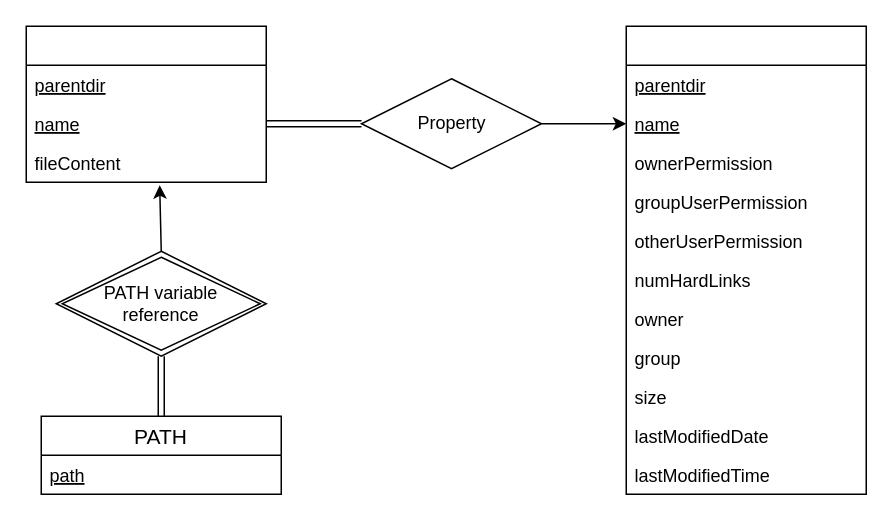
The diagram is 893 pixels wide and 525 high, and some of its shapes have lost their labels. Each missing label, with the box of its shape:
FileBlobs: (25, 25, 266, 182)
FileInfo: (625, 25, 866, 494)
